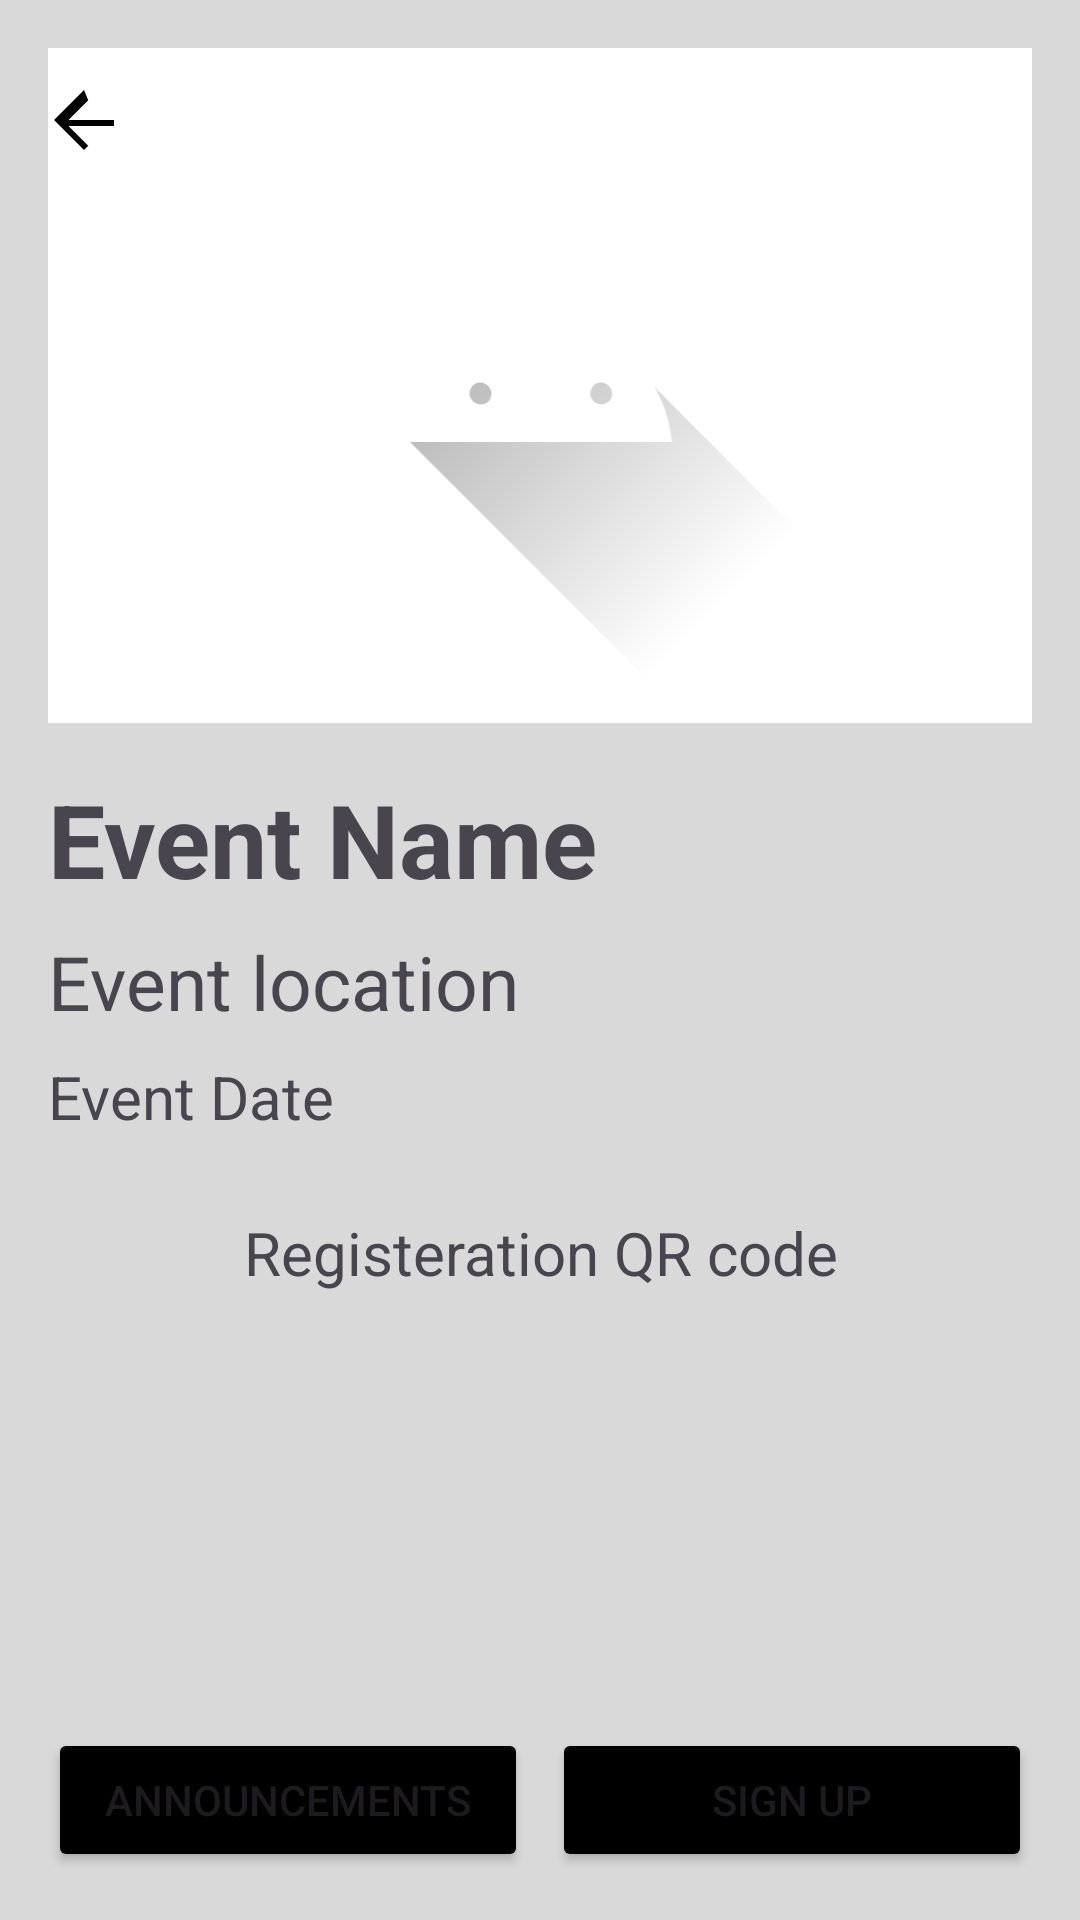

Where icons sit on this 1080px×1920px app screen, as region(x1, y1, x2, y2):
Back: region(54, 90, 114, 150)
